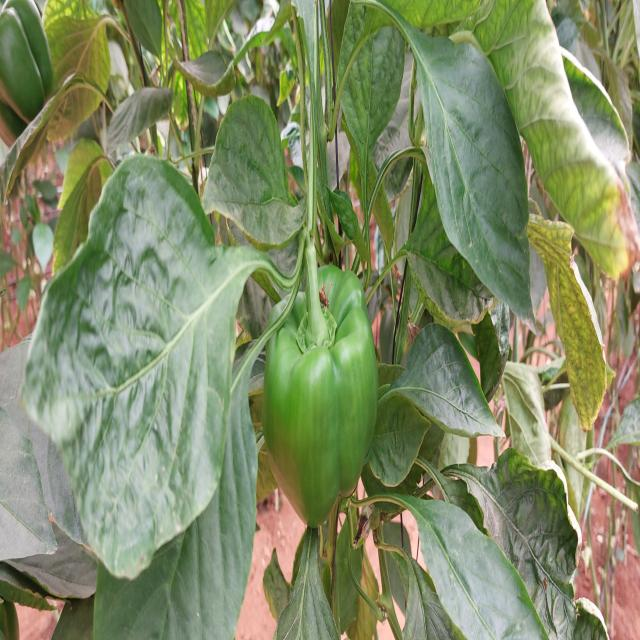Green--Not-ready-to-harvest: (267, 276, 379, 534), (0, 0, 52, 137)
